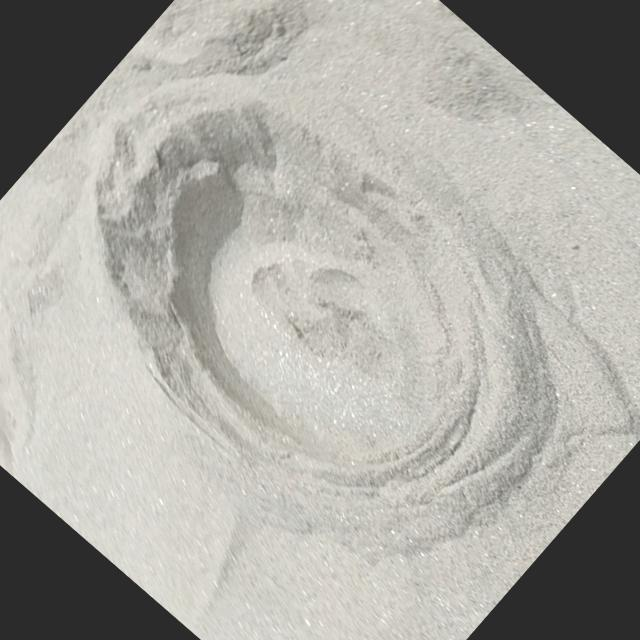C20: (97, 80, 504, 494)
